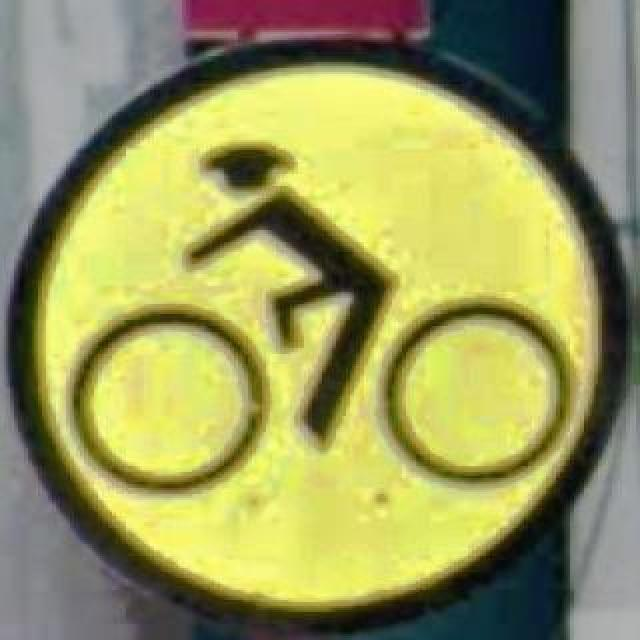bike lane: (4, 34, 626, 628)
